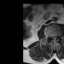CCS_normal: (53, 34, 55, 42)
LFS_severe_stenosis: (57, 33, 59, 39)
LLS_severe_stenosis: (55, 34, 57, 41)
RFS_stenosis: (50, 34, 52, 39)
RLS_normal: (52, 34, 53, 40)
